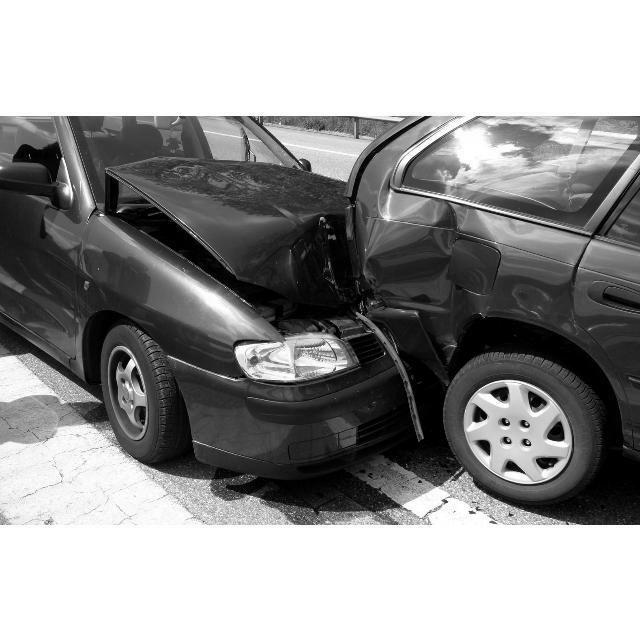bonnet-dent: (109, 149, 368, 309)
fender-dent: (82, 224, 247, 359)
quaterpanel-dent: (357, 169, 582, 347)
